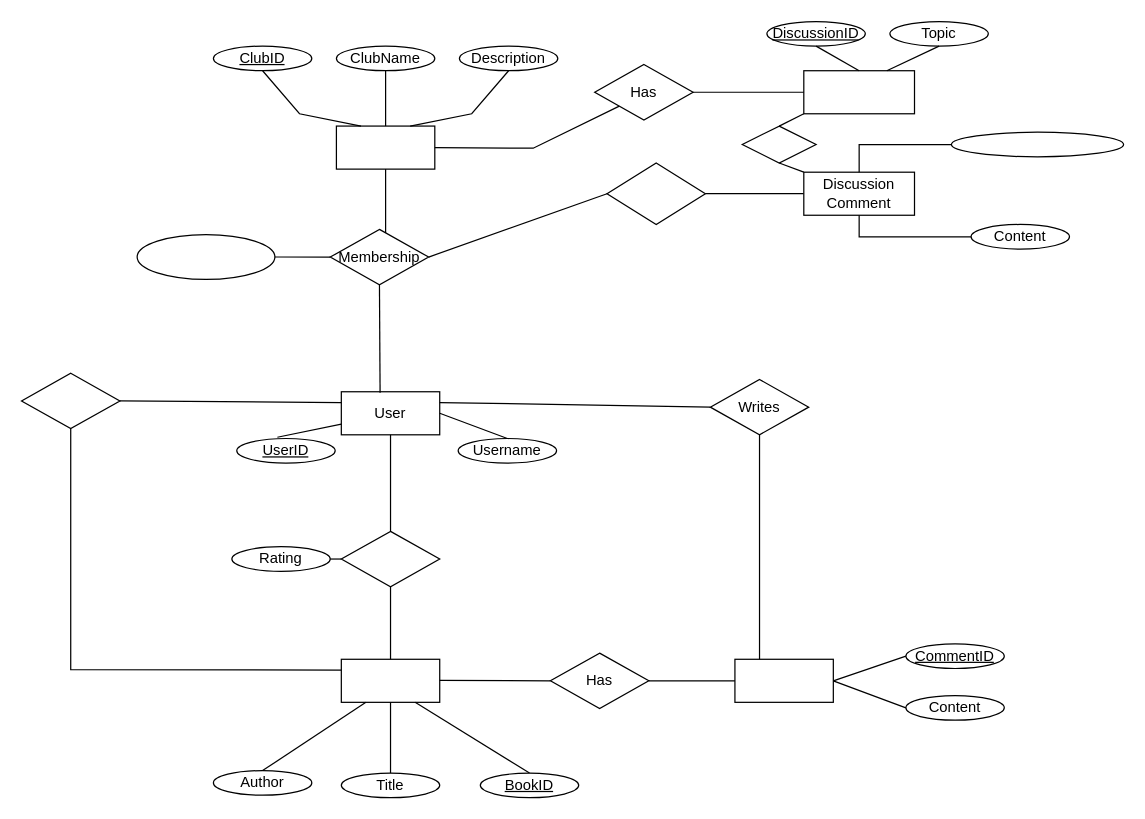
The diagram is 1145 pixels wide and 819 high, and some of its shapes have lost their labels. Each missing label, with the box of its shape:
Adds: (606, 162, 705, 224)
Adds new: (20, 372, 120, 429)
Book: (340, 658, 440, 702)
Book Comment: (734, 658, 833, 702)
Bookclub: (335, 125, 435, 169)
BookDiscussion: (803, 69, 915, 114)
DiscussionCommentID: (950, 131, 1124, 157)
Rates: (340, 530, 440, 587)
Role: owner or member: (136, 233, 275, 279)
To: (741, 125, 816, 163)
